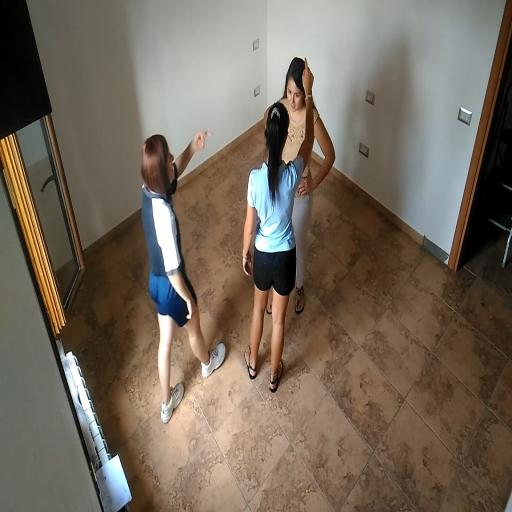nao-violencia: (232, 44, 340, 400)
